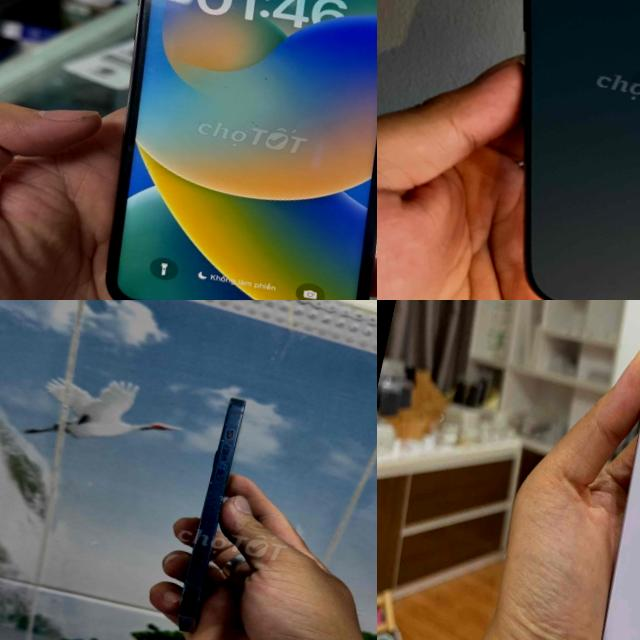scratch: (186, 412, 248, 578)
